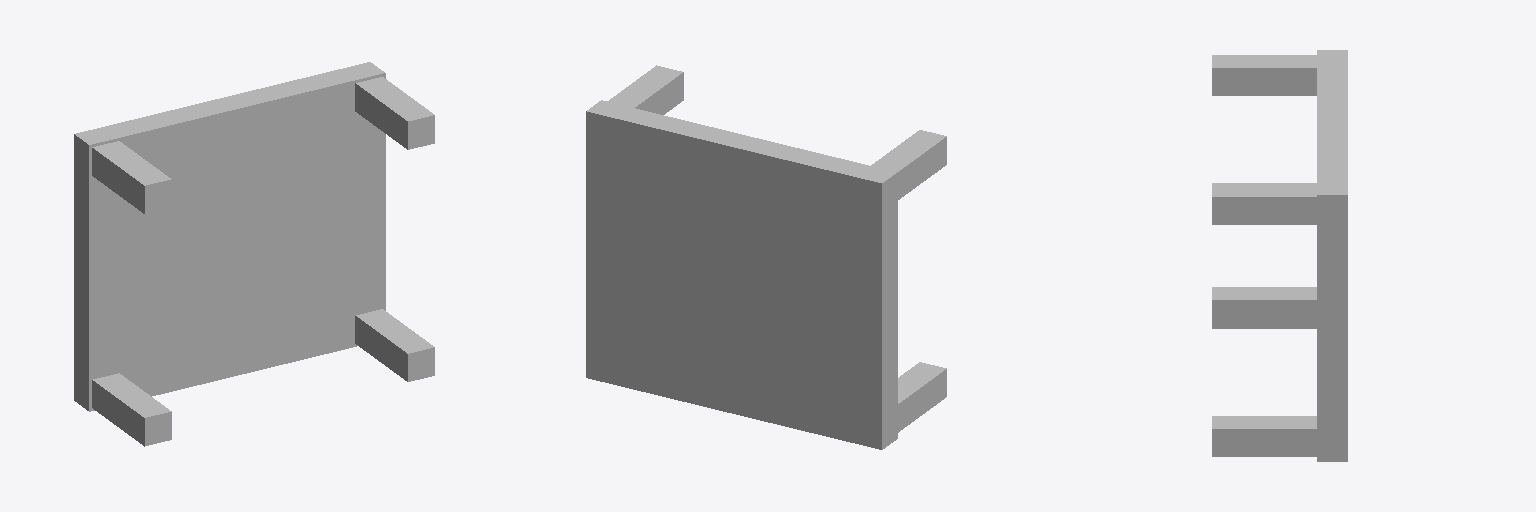
File: random_table35.obj
3 views of the same model, side by side, from view 1: azimuth 30°, elevation 25°; view 2: azimuth 150°, elevation 25°; view 3: azimuth 270°, elevation 25° (orthographic).
Visible parts, largest first — view 1: Table_Cube.370, TableLeg1_Cube.372, TableLeg0_Cube.371, TableLeg2_Cube.373, TableLeg3_Cube.374; view 2: Table_Cube.370, TableLeg1_Cube.372, TableLeg3_Cube.374, TableLeg0_Cube.371; view 3: Table_Cube.370, TableLeg0_Cube.371, TableLeg3_Cube.374, TableLeg1_Cube.372, TableLeg2_Cube.373.
Boxes of the visible parts, x1,y1,x2,y2 form: Table_Cube.370: [74, 62, 385, 411]; TableLeg1_Cube.372: [92, 141, 171, 213]; TableLeg0_Cube.371: [355, 77, 434, 149]; TableLeg2_Cube.373: [355, 309, 434, 381]; TableLeg3_Cube.374: [92, 373, 171, 446]; Table_Cube.370: [586, 100, 897, 449]; TableLeg1_Cube.372: [871, 130, 946, 199]; TableLeg3_Cube.374: [898, 362, 946, 432]; TableLeg0_Cube.371: [607, 65, 683, 114]; Table_Cube.370: [1317, 50, 1347, 461]; TableLeg0_Cube.371: [1212, 183, 1316, 224]; TableLeg3_Cube.374: [1212, 287, 1316, 328]; TableLeg1_Cube.372: [1212, 55, 1316, 95]; TableLeg2_Cube.373: [1212, 416, 1316, 456].
Bounding box in the file's own units: 6.37 × 5.48 × 2.52.